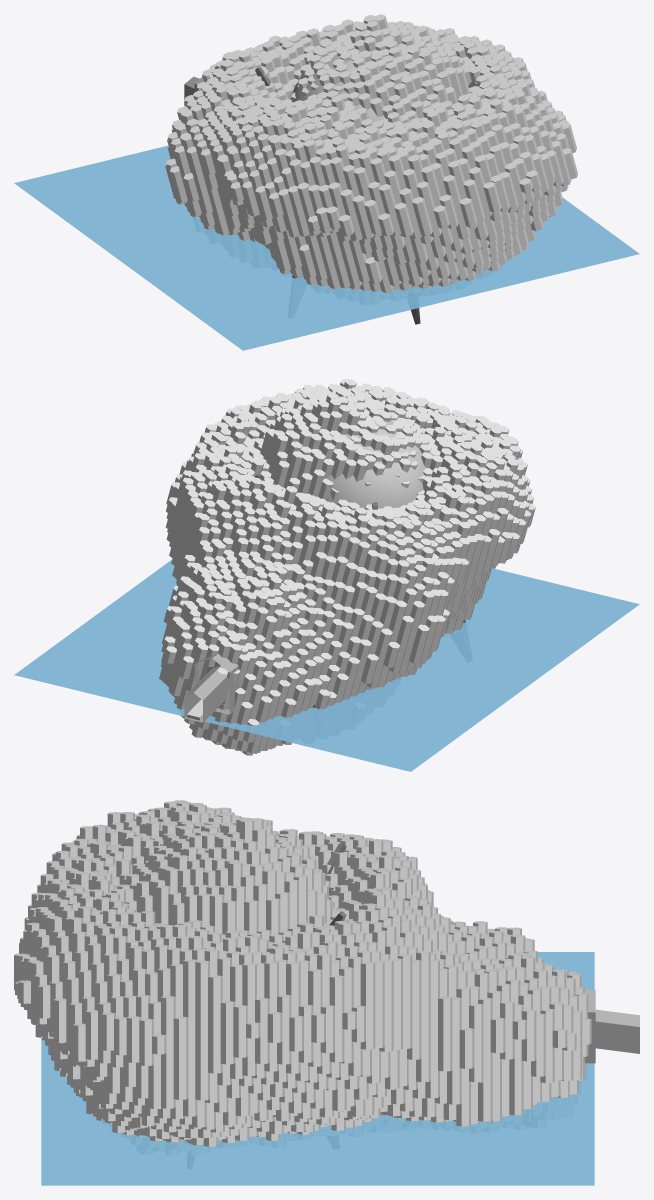
File: ancient_riuns.fbx
The picture shows the model from 3 angles, top to bottom: view 1: azimuth 30°, elevation 25°; view 2: azimuth 150°, elevation 25°; view 3: azimuth 270°, elevation 25°; orthographic projection. The views are drawn at different scales.
Parts seen in each view (by area): view 1: DomeCave, Water, AncientDome; view 2: DomeCave, Water, AncientDome, ForgeEntrance.001; view 3: DomeCave, Water, ForgeEntrance.001.
Part boxes in pixels (<box>): DomeCave: <box>165,14,577,292</box>; Water: <box>14,145,639,350</box>; AncientDome: <box>290,54,385,122</box>; DomeCave: <box>159,379,535,755</box>; Water: <box>14,560,639,771</box>; AncientDome: <box>325,420,425,508</box>; ForgeEntrance.001: <box>184,653,238,722</box>; DomeCave: <box>14,800,591,1146</box>; Water: <box>41,952,594,1185</box>; ForgeEntrance.001: <box>584,989,639,1063</box>.
Bounding box in the file's own units: 6000 × 3939 × 6790.
